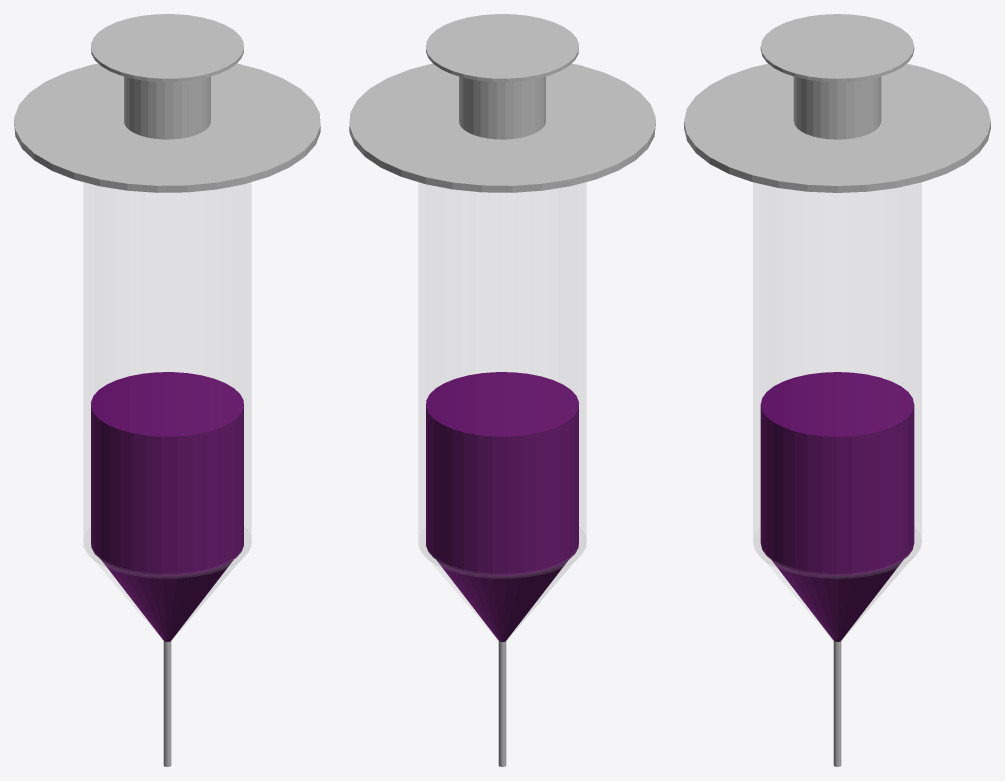
Rendered from Growth_Hormones.obj.
The picture shows the model from 3 angles, left to right: view 1: azimuth 30°, elevation 25°; view 2: azimuth 150°, elevation 25°; view 3: azimuth 270°, elevation 25°; orthographic projection.
Parts seen in each view (by area): view 1: Cylinder_Cylinder.005, Cylinder.004, Cylinder.001, Cylinder.003, Cylinder.002, Cone, Cylinder.005_Cylinder.007, Cone.001; view 2: Cylinder_Cylinder.005, Cylinder.004, Cylinder.001, Cylinder.003, Cylinder.002, Cone, Cylinder.005_Cylinder.007, Cone.001; view 3: Cylinder_Cylinder.005, Cylinder.004, Cylinder.001, Cylinder.003, Cylinder.002, Cone, Cylinder.005_Cylinder.007, Cone.001.
Boxes of the visible parts, x1,y1,x2,y2 form: Cylinder_Cylinder.005: (84, 183, 250, 577); Cylinder.004: (91, 372, 243, 575); Cylinder.001: (14, 63, 320, 192); Cylinder.003: (91, 14, 243, 82); Cylinder.002: (124, 76, 210, 139); Cone: (101, 560, 233, 641); Cylinder.005_Cylinder.007: (163, 641, 171, 766); Cone.001: (84, 527, 250, 635); Cylinder_Cylinder.005: (419, 183, 585, 577); Cylinder.004: (426, 372, 578, 575); Cylinder.001: (349, 63, 655, 192); Cylinder.003: (426, 14, 578, 82); Cylinder.002: (459, 76, 545, 139); Cone: (436, 560, 568, 641); Cylinder.005_Cylinder.007: (498, 641, 506, 766); Cone.001: (419, 527, 585, 635); Cylinder_Cylinder.005: (753, 183, 921, 578); Cylinder.004: (760, 372, 914, 575); Cylinder.001: (684, 63, 990, 192); Cylinder.003: (760, 14, 914, 82); Cylinder.002: (793, 76, 881, 139); Cone: (771, 560, 903, 641); Cylinder.005_Cylinder.007: (833, 641, 841, 766); Cone.001: (753, 528, 921, 635).
Size of the model in its own units: 4 by 10.34 by 4.
